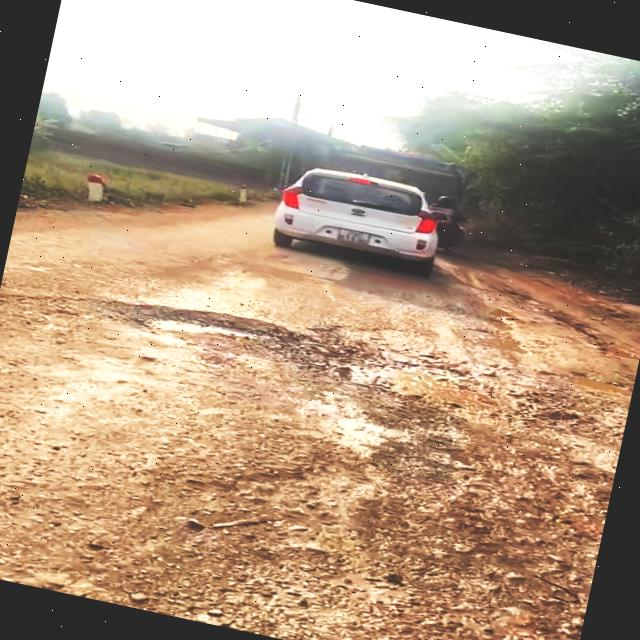pothole: (0, 261, 293, 378), (281, 322, 508, 424), (548, 365, 634, 401)
